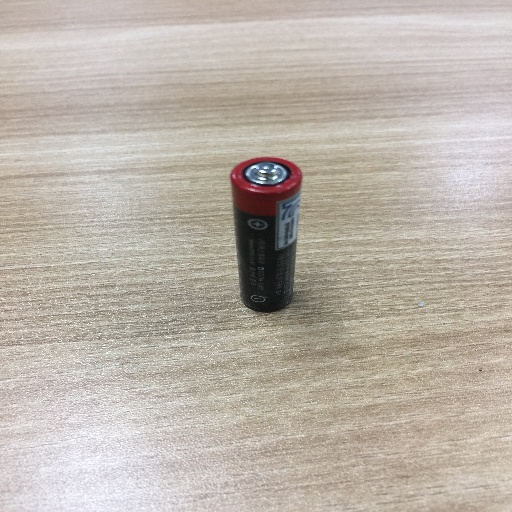Battery_0: (221, 142, 316, 331)
